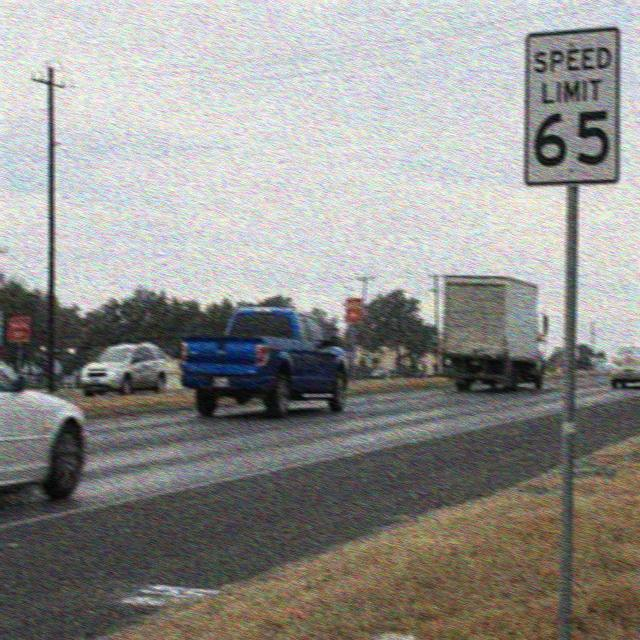speedLimit65: (526, 29, 618, 187)
